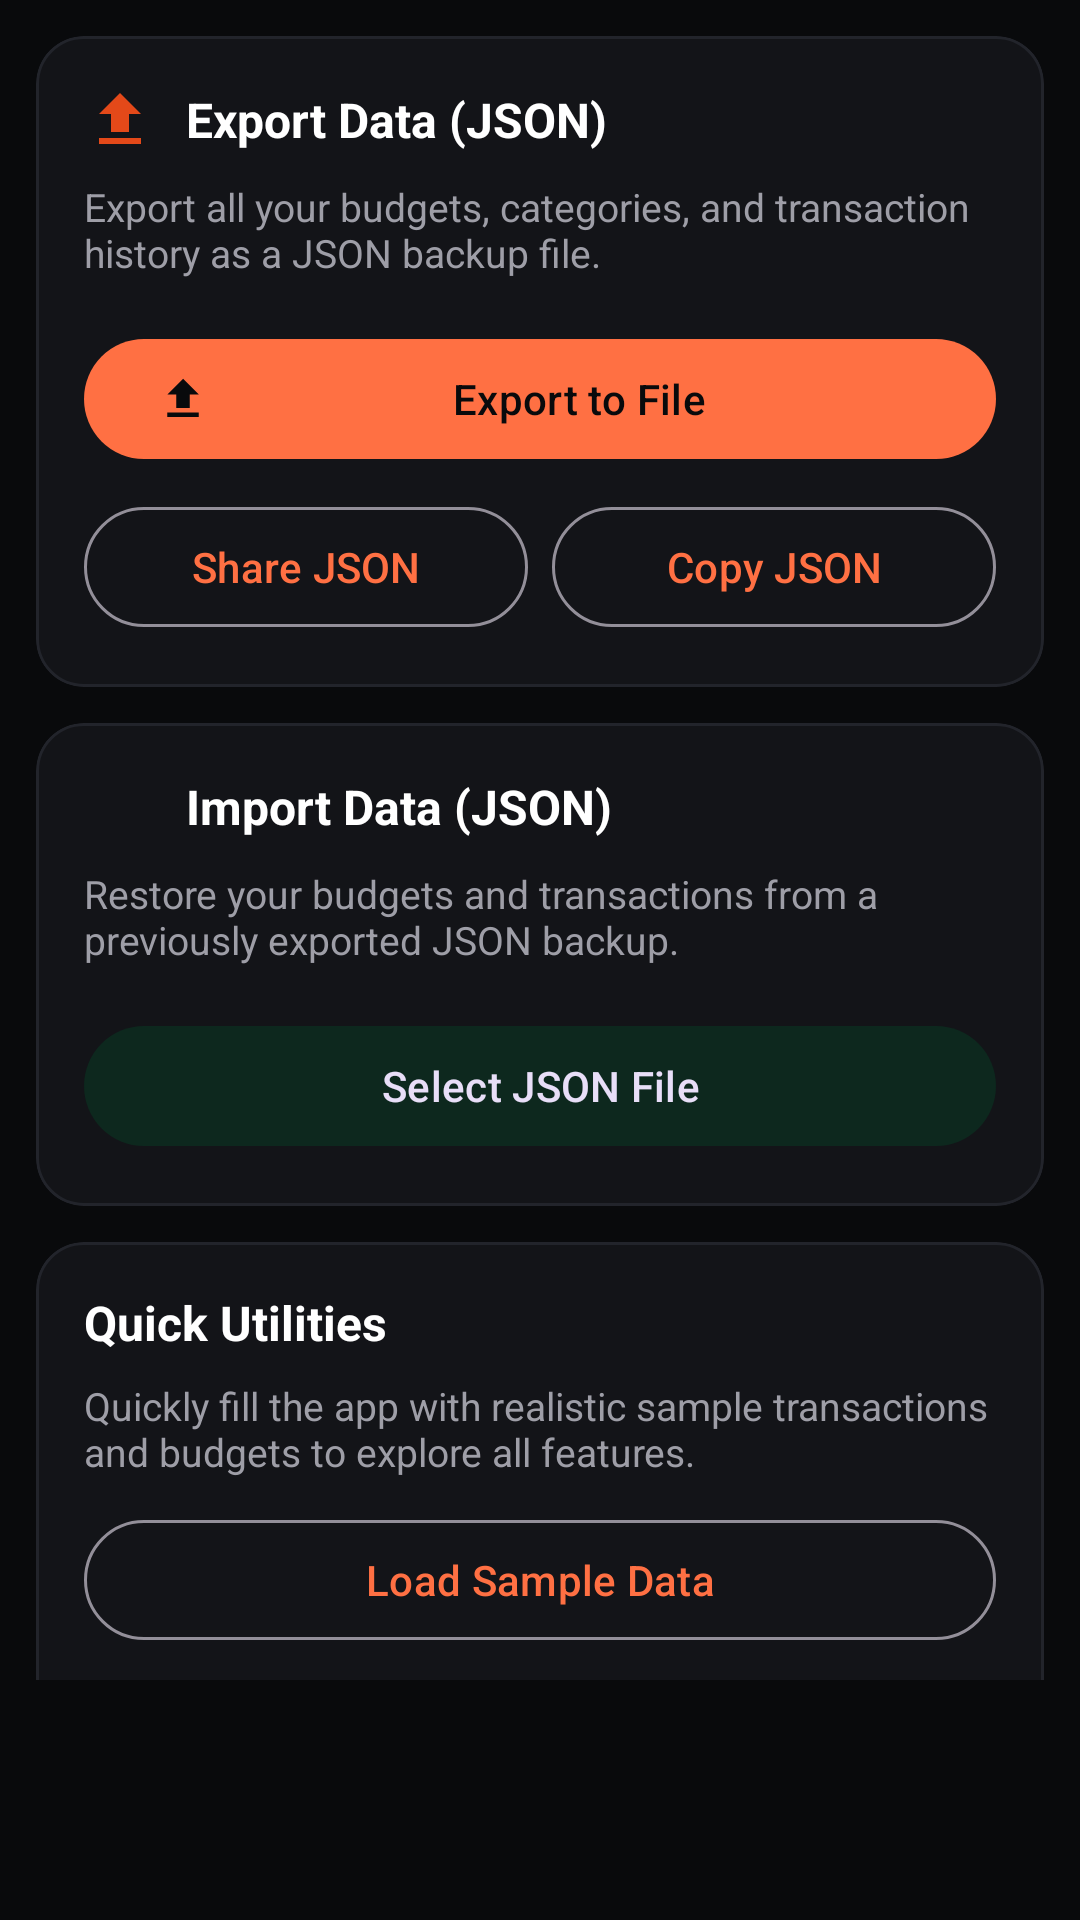

Where icons sit on this 1080x1920 app screen, as (x1, y1, x2, y2):
file upload: (99, 93, 141, 144)
